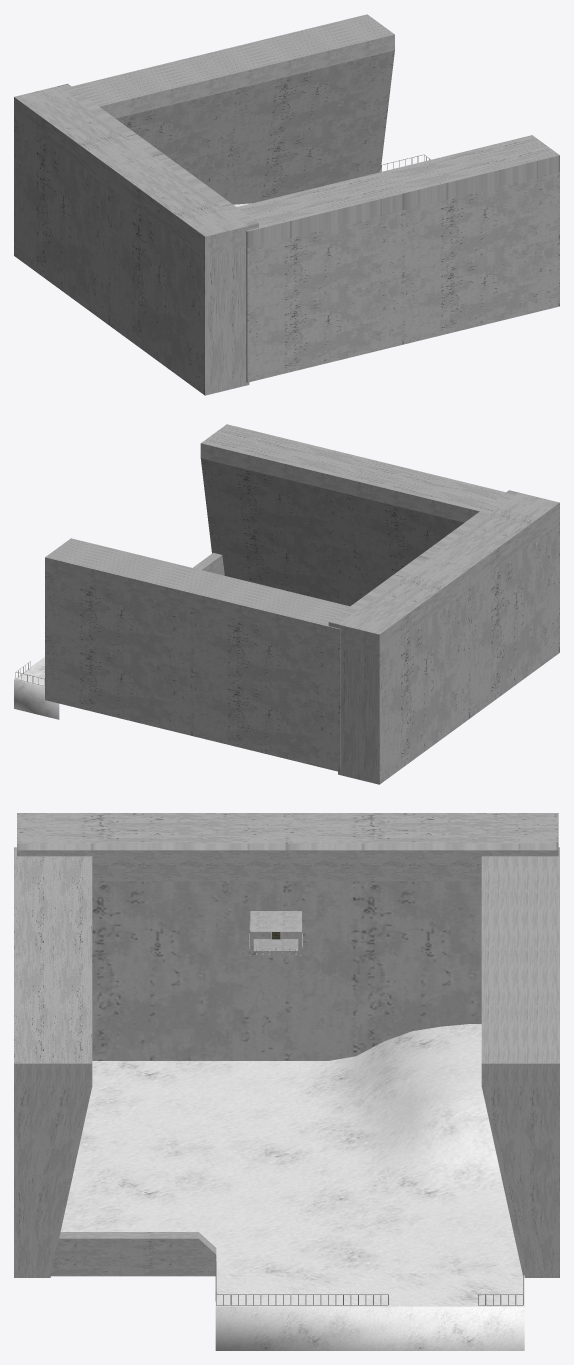
Rendered from polar_island.glb.
3 renders of one model, top to bottom at view 1: azimuth 30°, elevation 25°; view 2: azimuth 150°, elevation 25°; view 3: azimuth 270°, elevation 25°, orthographic. The views are drawn at different scales.
Visible parts, largest first — view 1: wall.001, wall.002, wall; view 2: wall, wall.002, wall.001, Plane, small wall; view 3: Plane, wall.002, wall.001, wall, small wall, platform_roof, fence.
Boxes of the visible parts, <box> form: wall.001: <box>237,135,559,382</box>; wall.002: <box>14,83,258,395</box>; wall: <box>72,14,394,204</box>; wall: <box>45,538,349,771</box>; wall.002: <box>328,490,559,784</box>; wall.001: <box>200,424,505,606</box>; Plane: <box>14,657,59,719</box>; small wall: <box>193,552,224,575</box>; Plane: <box>60,1024,524,1350</box>; wall.002: <box>17,813,558,1060</box>; wall.001: <box>14,847,92,1277</box>; wall: <box>481,847,559,1277</box>; small wall: <box>51,1232,216,1276</box>; platform_roof: <box>250,911,301,931</box>; fence: <box>215,1261,523,1305</box>.
Bounding box in the file's own units: 8.6 × 3.8 × 7.19.
Materials: 4 (4 with a texture image).
